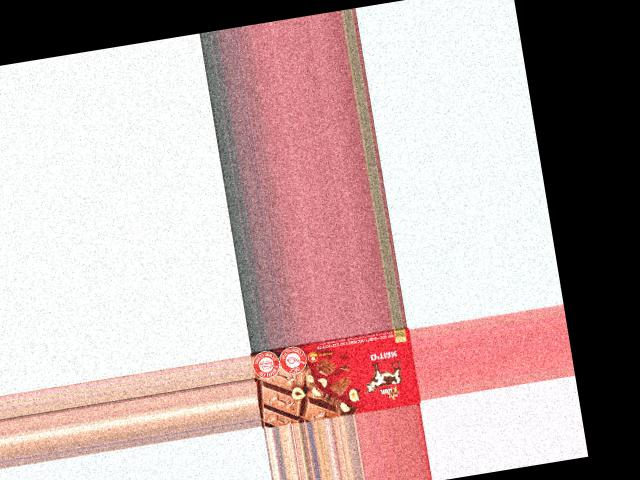chocolate: (251, 328, 421, 428)
